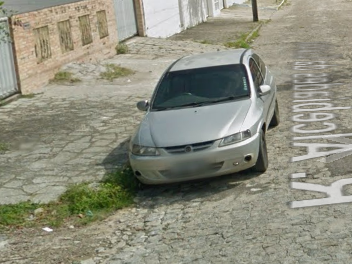car: (126, 48, 282, 193)
